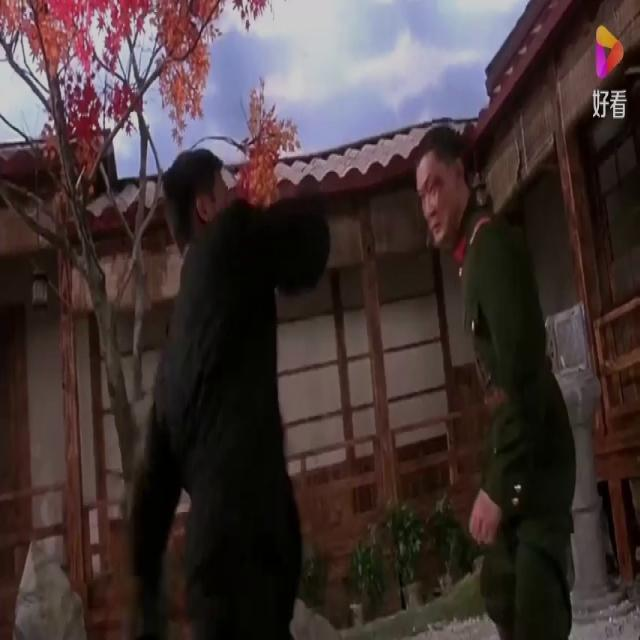fight: (100, 113, 623, 639)
